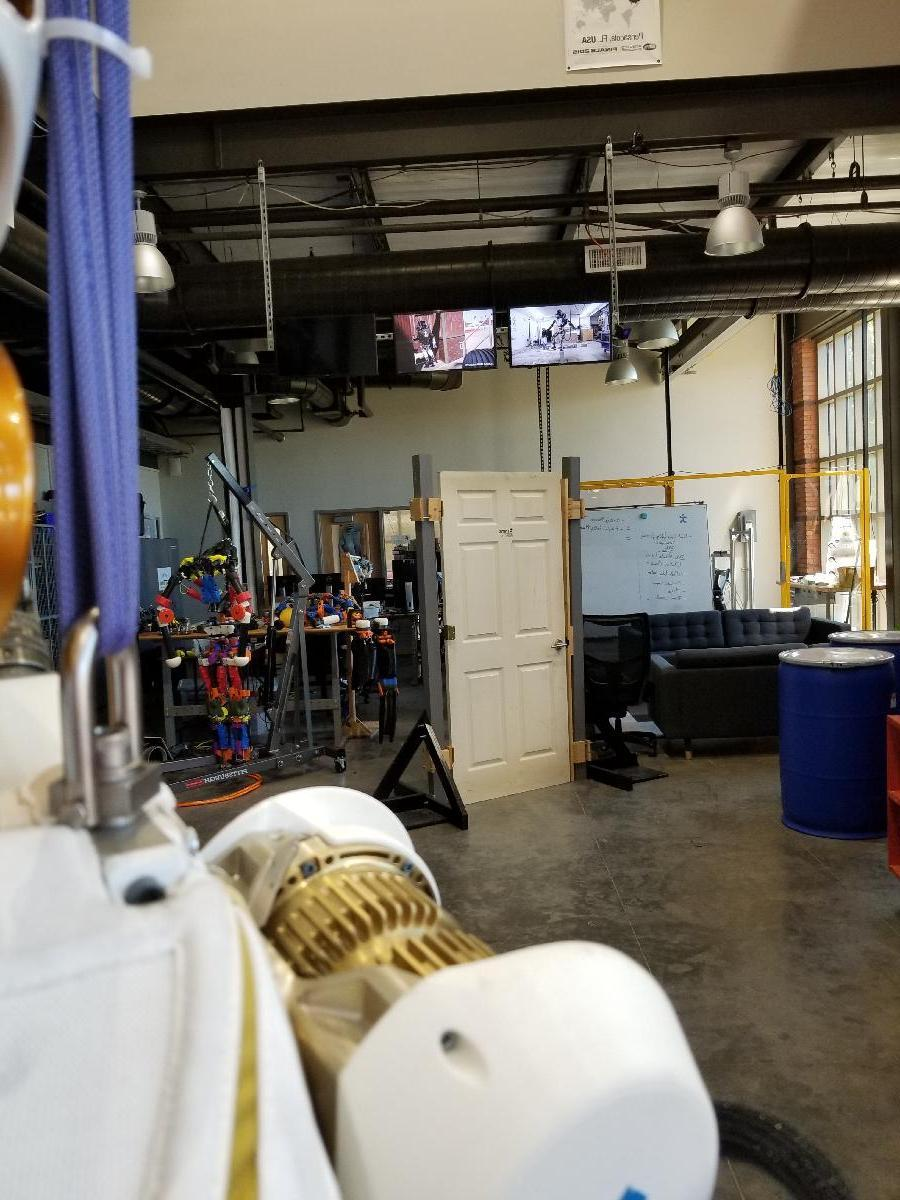door: (445, 476, 574, 799)
handle: (544, 636, 572, 662)
